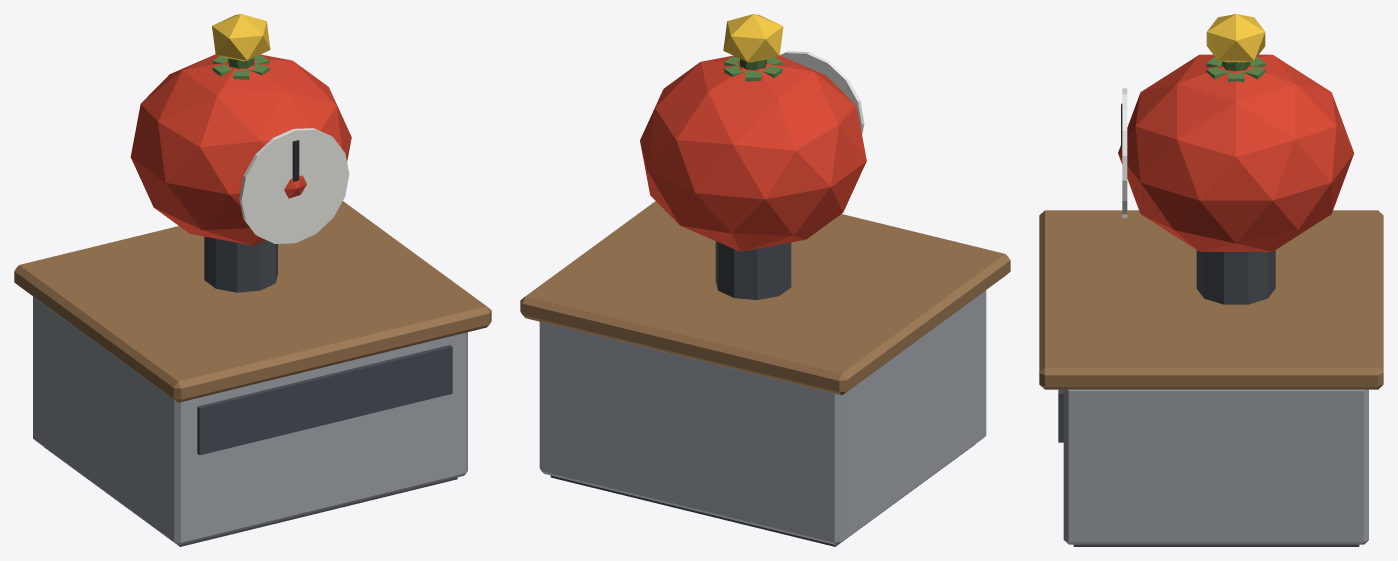
The model's file is pomodoro_3.glb.
The picture shows the model from 3 angles, left to right: view 1: azimuth 30°, elevation 25°; view 2: azimuth 150°, elevation 25°; view 3: azimuth 270°, elevation 25°; orthographic projection. The views are drawn at different scales.
Visible parts, largest first — view 1: pomodoro_3_mesh_Desk, pomodoro_3_mesh; view 2: pomodoro_3_mesh_Desk, pomodoro_3_mesh; view 3: pomodoro_3_mesh_Desk, pomodoro_3_mesh.
Part boxes in pixels (bbox=[...]): pomodoro_3_mesh_Desk: bbox=[14, 201, 491, 546]; pomodoro_3_mesh: bbox=[130, 14, 351, 292]; pomodoro_3_mesh_Desk: bbox=[520, 201, 1010, 546]; pomodoro_3_mesh: bbox=[640, 14, 866, 300]; pomodoro_3_mesh_Desk: bbox=[1039, 210, 1383, 546]; pomodoro_3_mesh: bbox=[1118, 14, 1354, 304].
Size of the model in its own units: 0.78 by 1.04 by 0.7.
